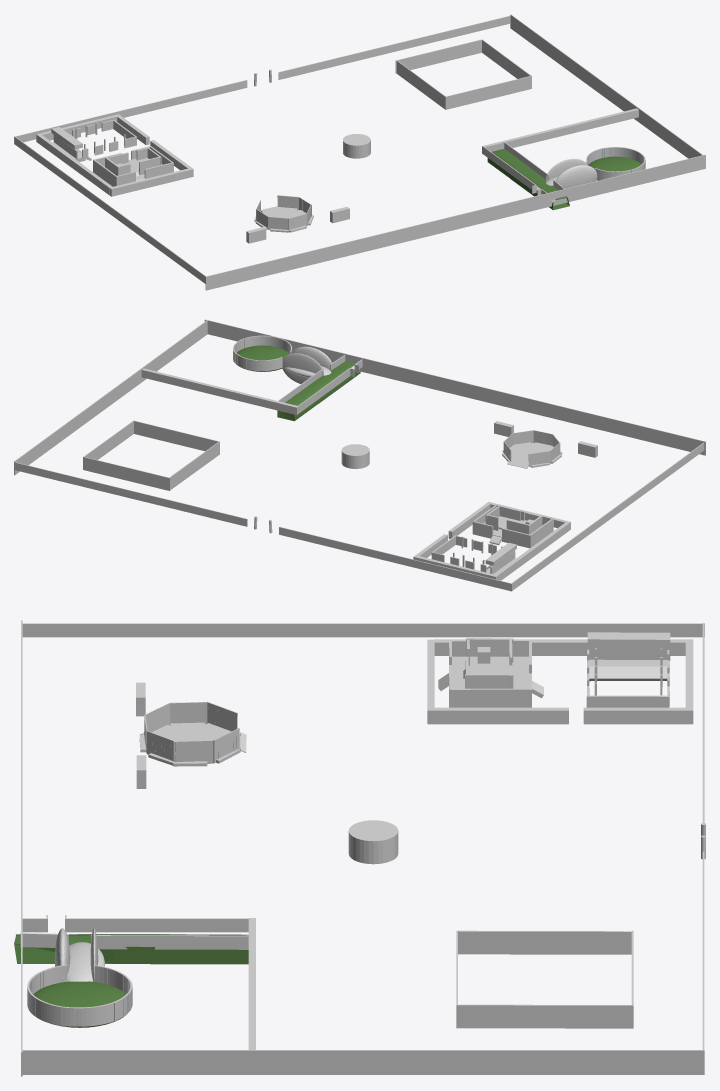
Rendered from plazaPrincipal_colisiones.glb.
The picture shows the model from 3 angles, top to bottom: view 1: azimuth 30°, elevation 25°; view 2: azimuth 150°, elevation 25°; view 3: azimuth 270°, elevation 25°; orthographic projection. The views are drawn at different scales.
Visible parts, largest first — view 1: caja_colision_i.005, caja_colision_i.004, caja_colision_i.003, caja_colision_i.001, caja_colision_i.002, caja_colision_i.008, caja_colision_i.236, caja_colision_i.235, colision_suelo.011, caja_colision_i.010, caja_colision_i.014, caja_colision_i.237 (+6 smaller); view 2: caja_colision_i.005, caja_colision_i.004, caja_colision_i.002, caja_colision_i.003, caja_colision_i.001, caja_colision_i.008, caja_colision_i.235, colision_suelo.011, caja_colision_i.236, caja_colision_i.014, caja_colision_i.069, caja_colision_i.237 (+6 smaller); view 3: caja_colision_i.004, caja_colision_i.001, caja_colision_i.238, caja_colision_i.237, colision_suelo.011, caja_colision_i.032, caja_colision_i.009, caja_colision_i.007, caja_colision_i.Cilindro, caja_colision_i.011, colision_suelo.018, caja_colision_i.035 (+12 smaller).
Boxes of the visible parts, <box> form: caja_colision_i.005: <box>205,154,705,290</box>; caja_colision_i.004: <box>510,14,702,158</box>; caja_colision_i.003: <box>278,15,510,79</box>; caja_colision_i.001: <box>14,136,207,285</box>; caja_colision_i.002: <box>14,80,247,144</box>; caja_colision_i.008: <box>482,108,638,154</box>; caja_colision_i.236: <box>445,75,531,109</box>; caja_colision_i.235: <box>395,39,481,73</box>; colision_suelo.011: <box>487,149,569,210</box>; caja_colision_i.010: <box>109,167,193,196</box>; caja_colision_i.014: <box>38,135,112,195</box>; caja_colision_i.237: <box>396,60,445,109</box>; caja_colision_i.005: <box>204,319,705,455</box>; caja_colision_i.004: <box>14,320,207,475</box>; caja_colision_i.002: <box>279,527,512,591</box>; caja_colision_i.003: <box>15,462,247,526</box>; caja_colision_i.001: <box>510,442,704,591</box>; caja_colision_i.008: <box>141,368,298,415</box>; caja_colision_i.235: <box>83,457,170,490</box>; colision_suelo.011: <box>277,361,360,421</box>; caja_colision_i.236: <box>133,420,218,451</box>; caja_colision_i.014: <box>494,522,569,580</box>; caja_colision_i.069: <box>282,353,323,383</box>; caja_colision_i.237: <box>169,441,219,489</box>; caja_colision_i.004: <box>22,1050,704,1074</box>; caja_colision_i.001: <box>22,623,704,637</box>; caja_colision_i.238: <box>458,1004,633,1028</box>; caja_colision_i.237: <box>458,930,633,954</box>; colision_suelo.011: <box>14,934,248,964</box>; caja_colision_i.032: <box>65,918,255,932</box>; caja_colision_i.009: <box>428,707,568,724</box>; caja_colision_i.007: <box>91,935,254,949</box>; caja_colision_i.Cilindro: <box>348,820,398,864</box>; caja_colision_i.011: <box>583,707,693,724</box>; colision_suelo.018: <box>33,981,125,1027</box>; caja_colision_i.035: <box>449,688,530,707</box>.
Size of the model in its own units: 243 by 14.13 by 164.
